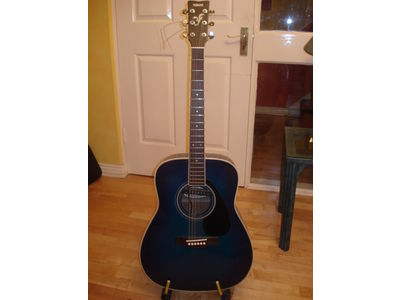guitar: (138, 2, 253, 293)
